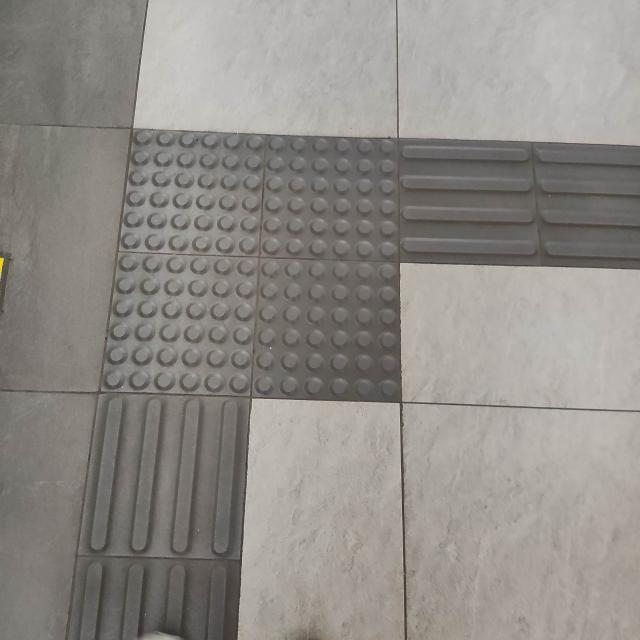kanan: (53, 89, 640, 482)
